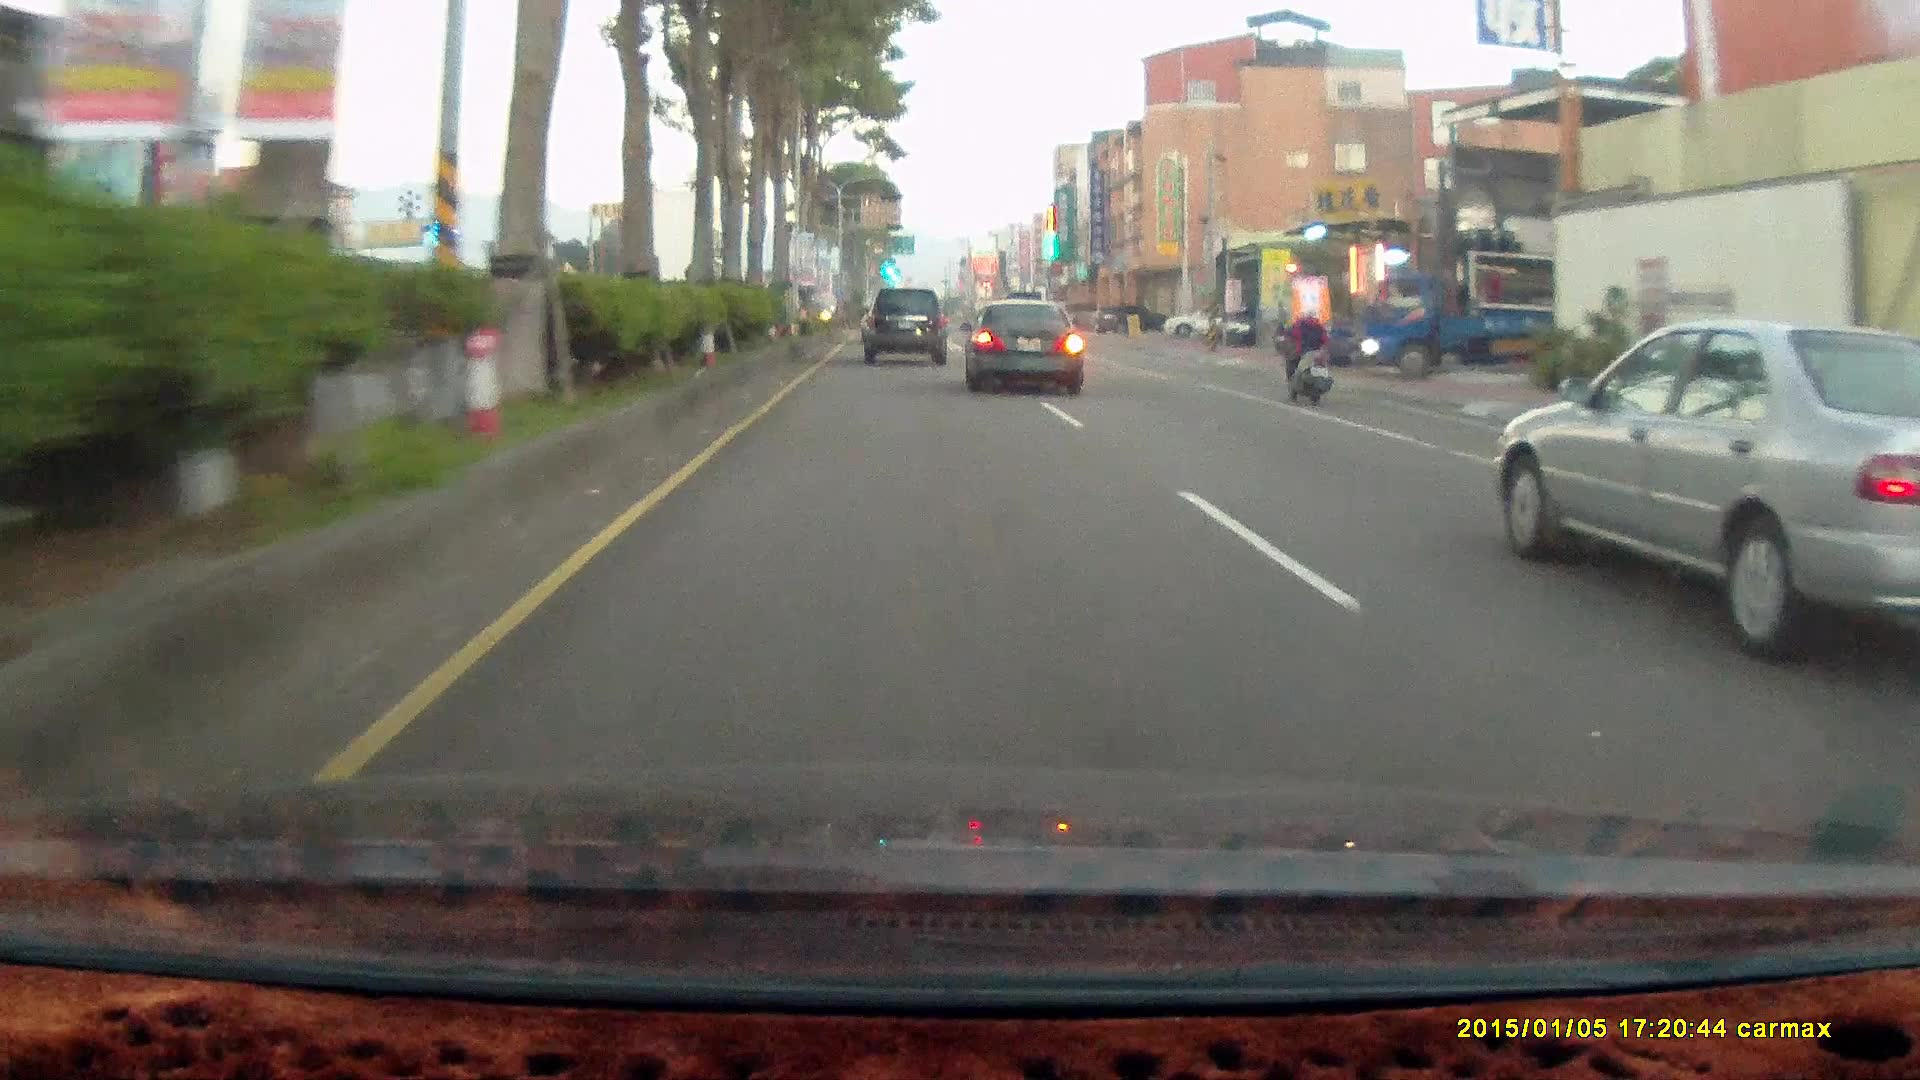rider: (1274, 299, 1341, 414), (1280, 292, 1338, 398)
vehicle: (1488, 315, 1920, 659), (1359, 271, 1599, 380), (1362, 260, 1556, 375), (957, 295, 1082, 393), (971, 295, 1093, 386), (860, 286, 947, 365), (862, 281, 952, 357), (1162, 304, 1239, 337), (1095, 302, 1166, 334)
